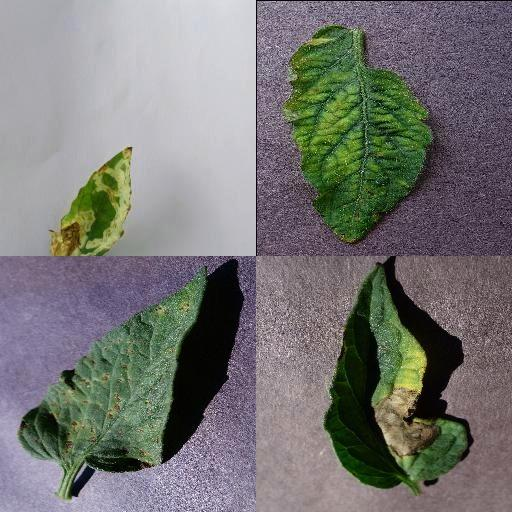Early Blight: (324, 262, 470, 490)
Leaf Miner: (47, 141, 134, 256)
Mosaic Virus: (285, 23, 434, 247)
Septoria: (17, 265, 208, 473)
